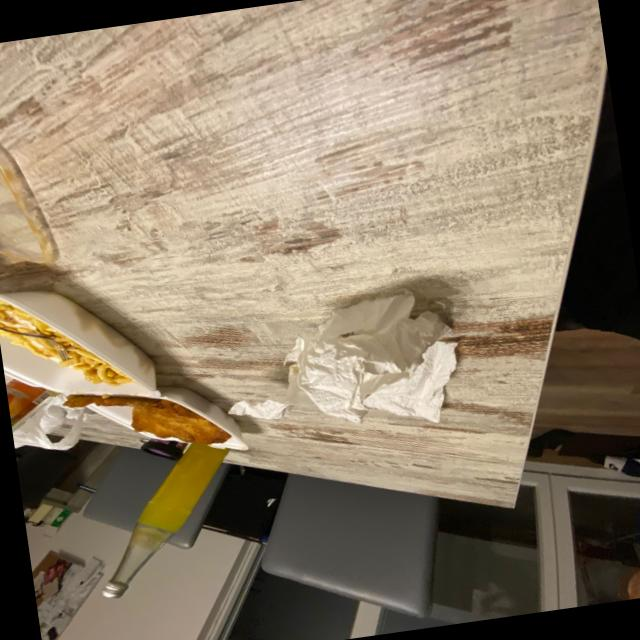organic waste: (276, 281, 470, 444), (226, 392, 290, 426)
